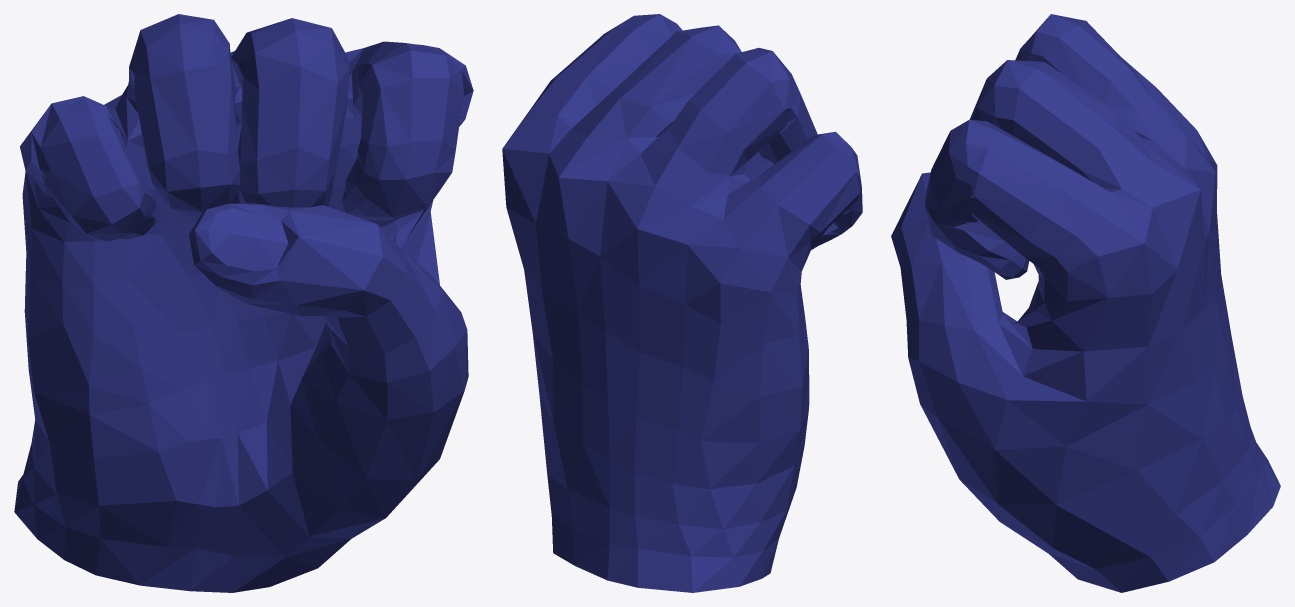
The picture shows the model from 3 angles, left to right: view 1: azimuth 30°, elevation 25°; view 2: azimuth 150°, elevation 25°; view 3: azimuth 270°, elevation 25°; orthographic projection. The views are drawn at different scales.
Size of the model in its own units: 0.0916 by 0.1288 by 0.0894.
